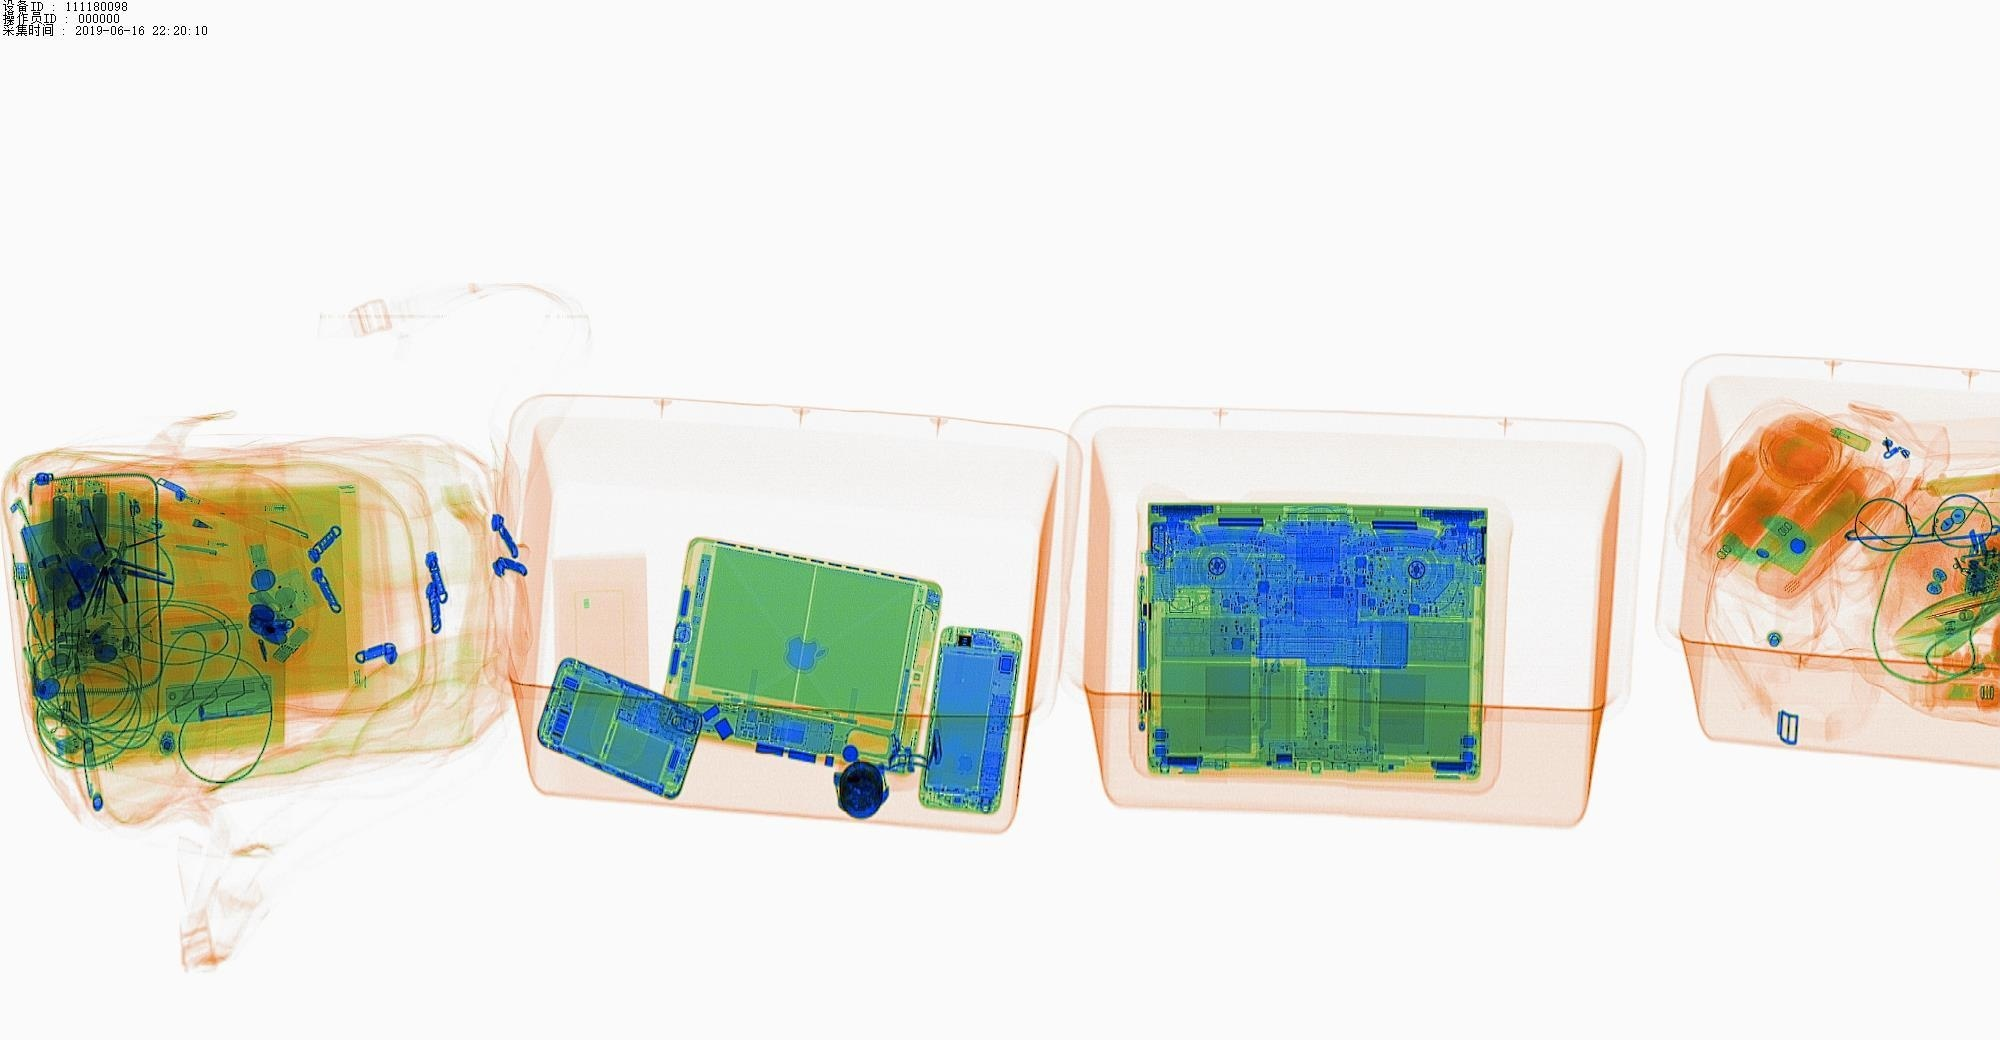NonmetallicFire: (44, 565, 86, 654)
